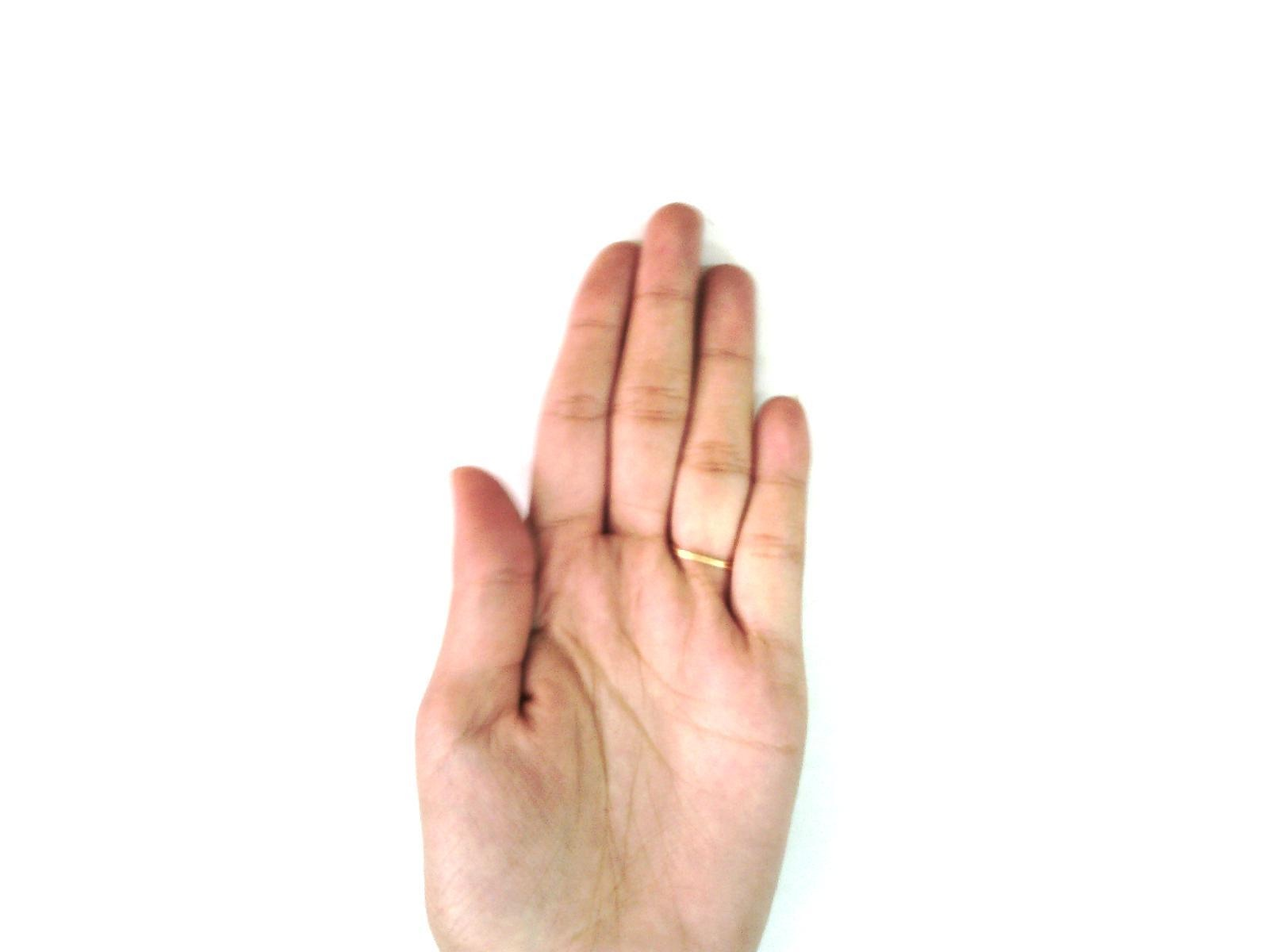open_palm: (412, 202, 815, 951)
